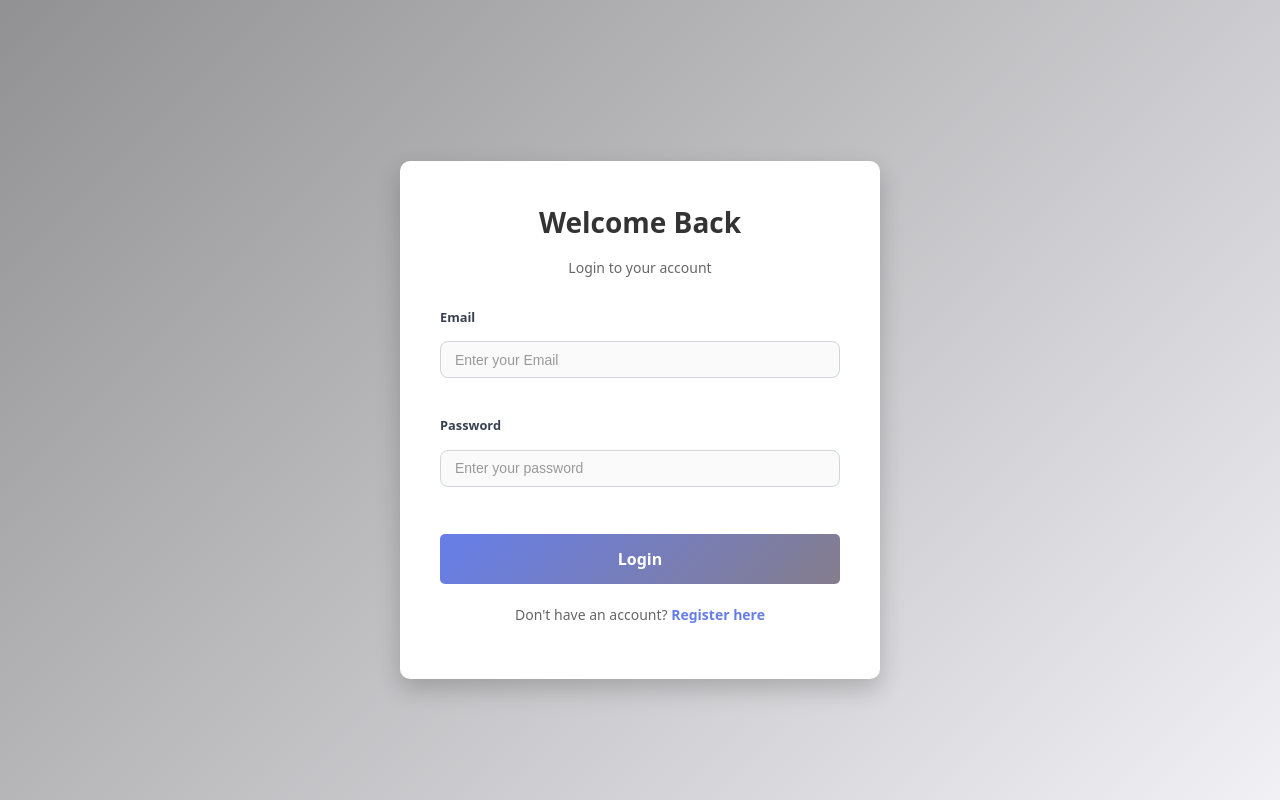
Test case: Login — error state › clears error when user starts typing after a failed login
Type "bad@test.com" into the field labelled "Email" at (640, 360), box [440,341,840,378]
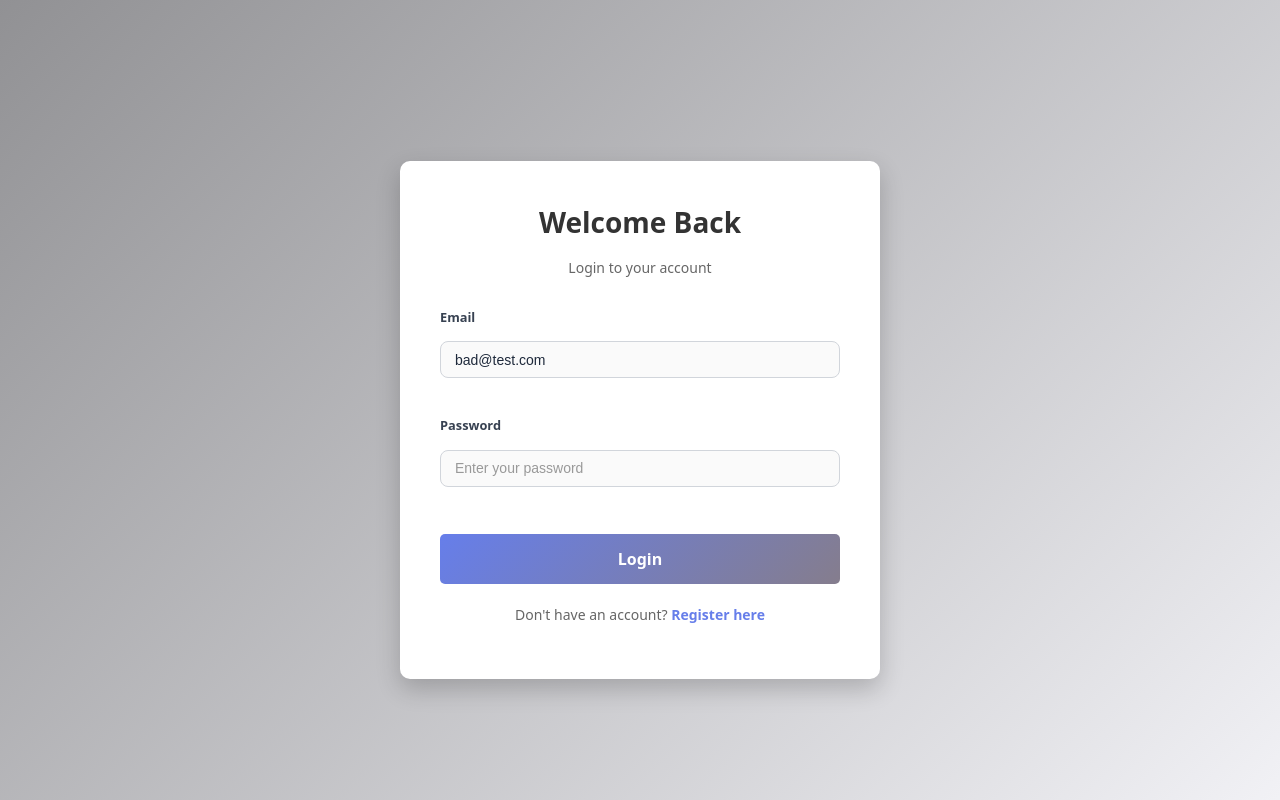
Type "wrong" into the password field labelled "Password" at (640, 468), box [440,450,840,487]
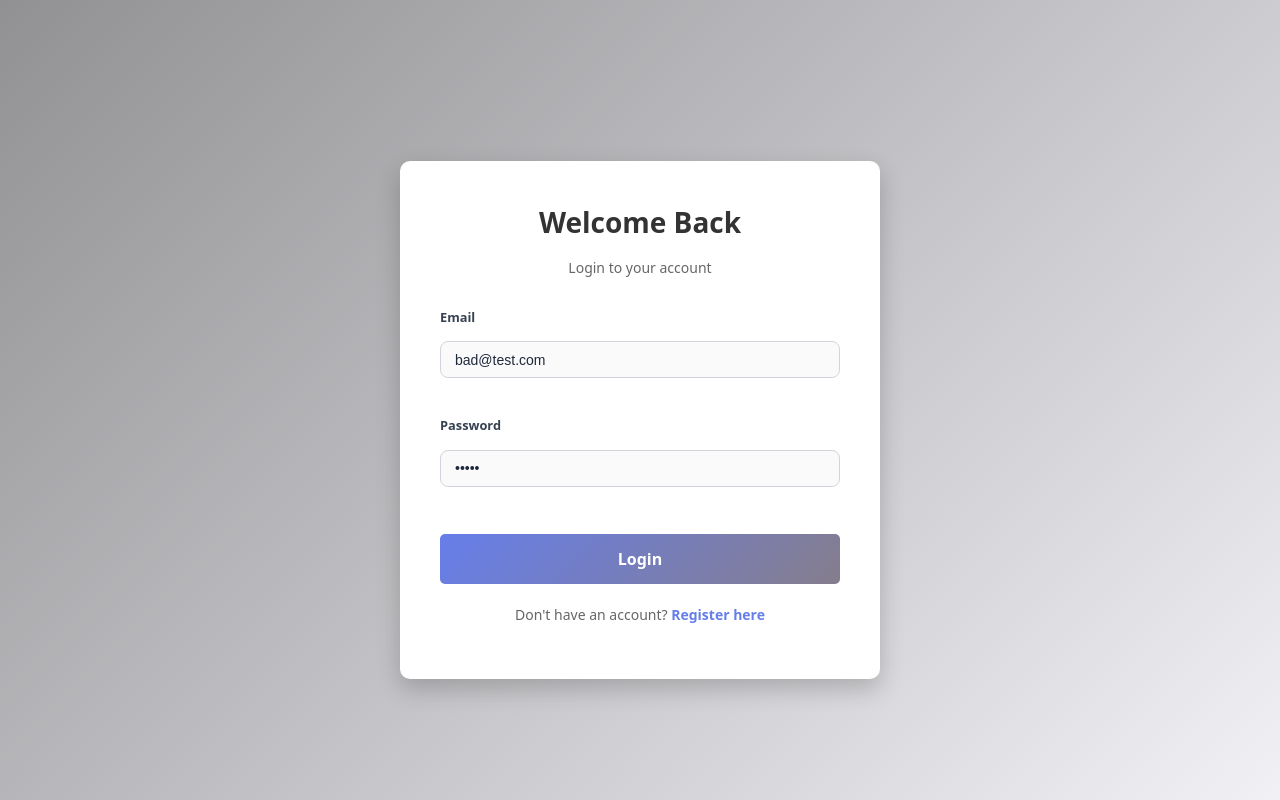
Click the button "Login" at (640, 559), box [440,534,840,584]
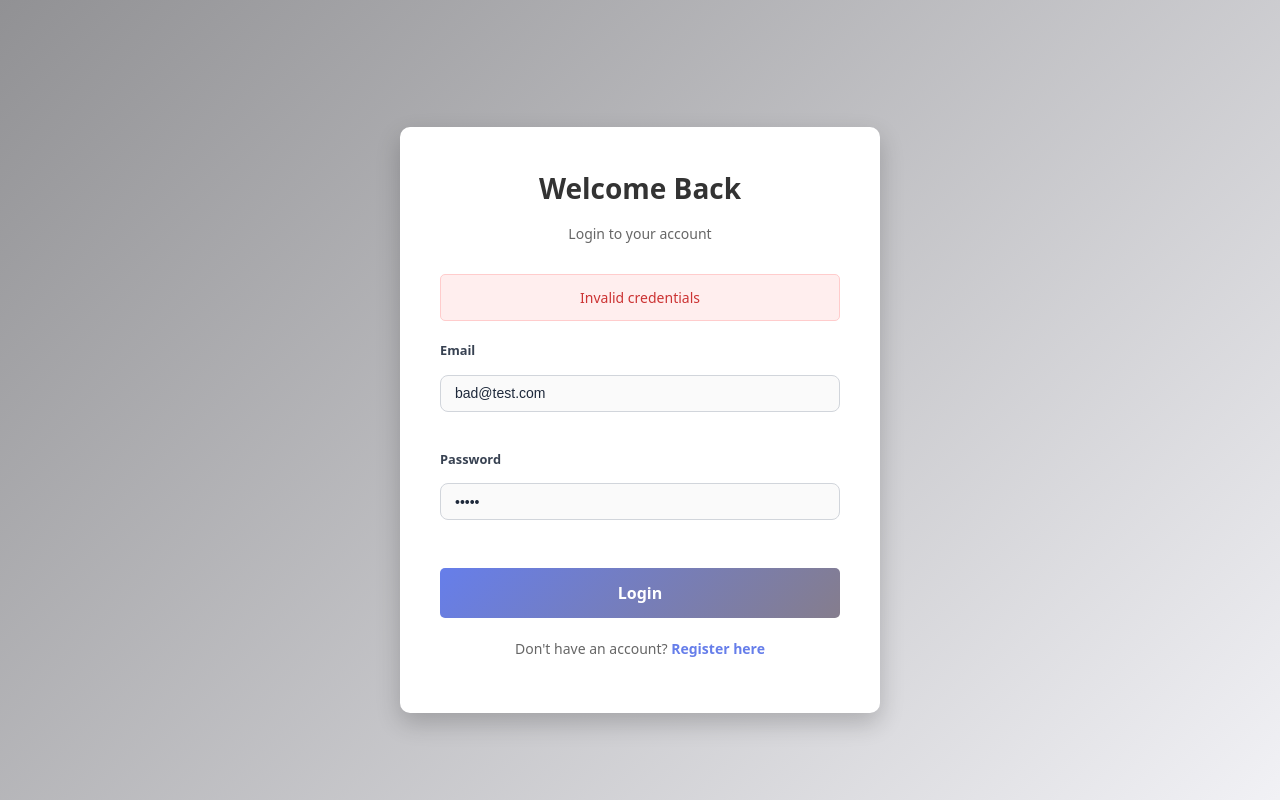
Result: the text "Invalid credentials" is shown at [440,274,840,321]
Note: Typing in any field should clear the error
Replace the text in the field labelled "Email" with "new@test.com" at (640, 393), box [440,375,840,412]
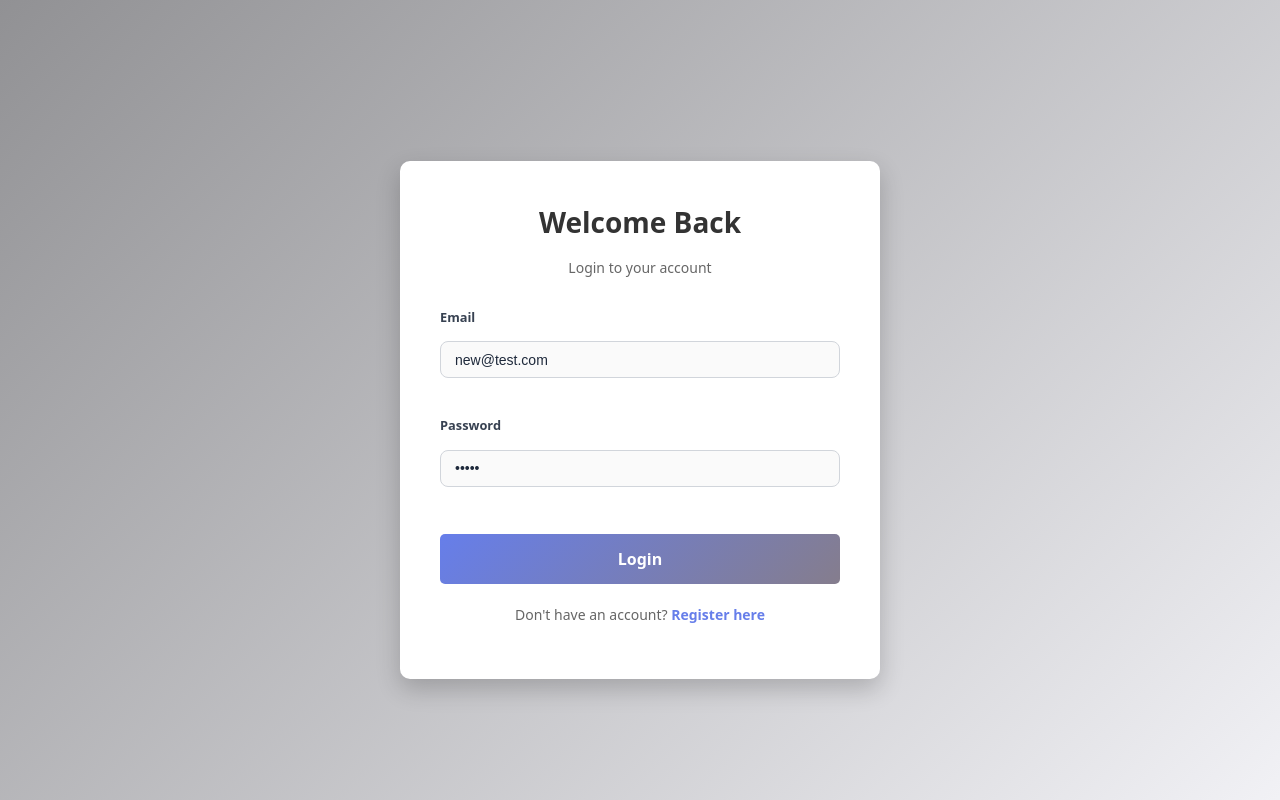
Result: the text "Invalid credentials" is gone
